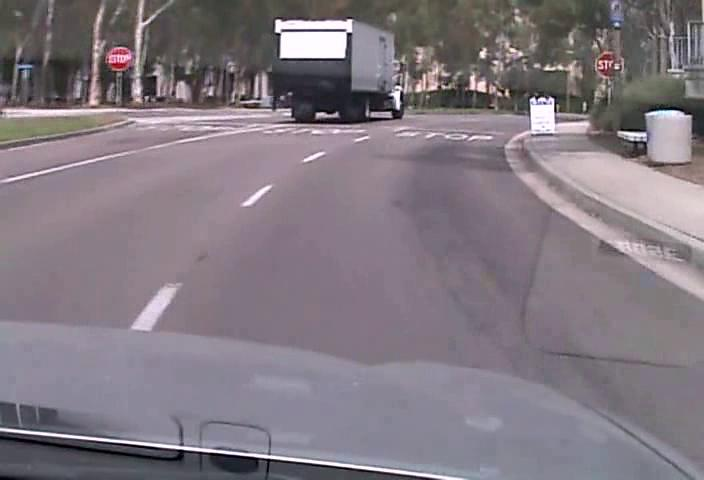stop: (106, 46, 131, 70)
